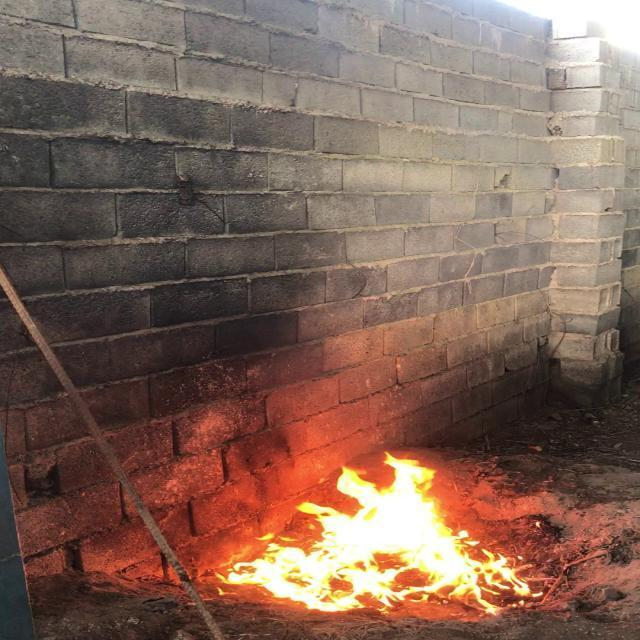Fire: (229, 456, 477, 596)
